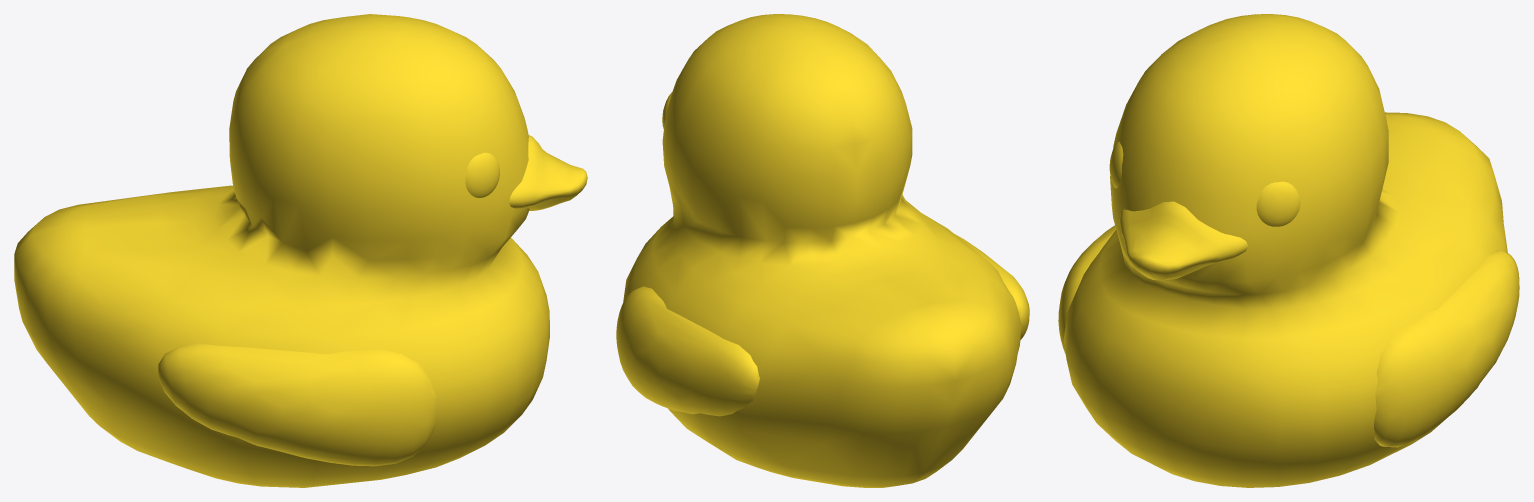
The model's file is Toy65.fbx.
3 renders of one model, left to right at view 1: azimuth 30°, elevation 25°; view 2: azimuth 150°, elevation 25°; view 3: azimuth 270°, elevation 25°, orthographic. The views are drawn at different scales.
Visible parts, largest first — view 1: Toy65; view 2: Toy65; view 3: Toy65.
Boxes of the visible parts, bbox=[...] form: Toy65: bbox=[14, 14, 587, 487]; Toy65: bbox=[616, 14, 1029, 487]; Toy65: bbox=[1058, 14, 1519, 487].
Bounding box in the file's own units: 0.141 × 0.1302 × 0.1231.
